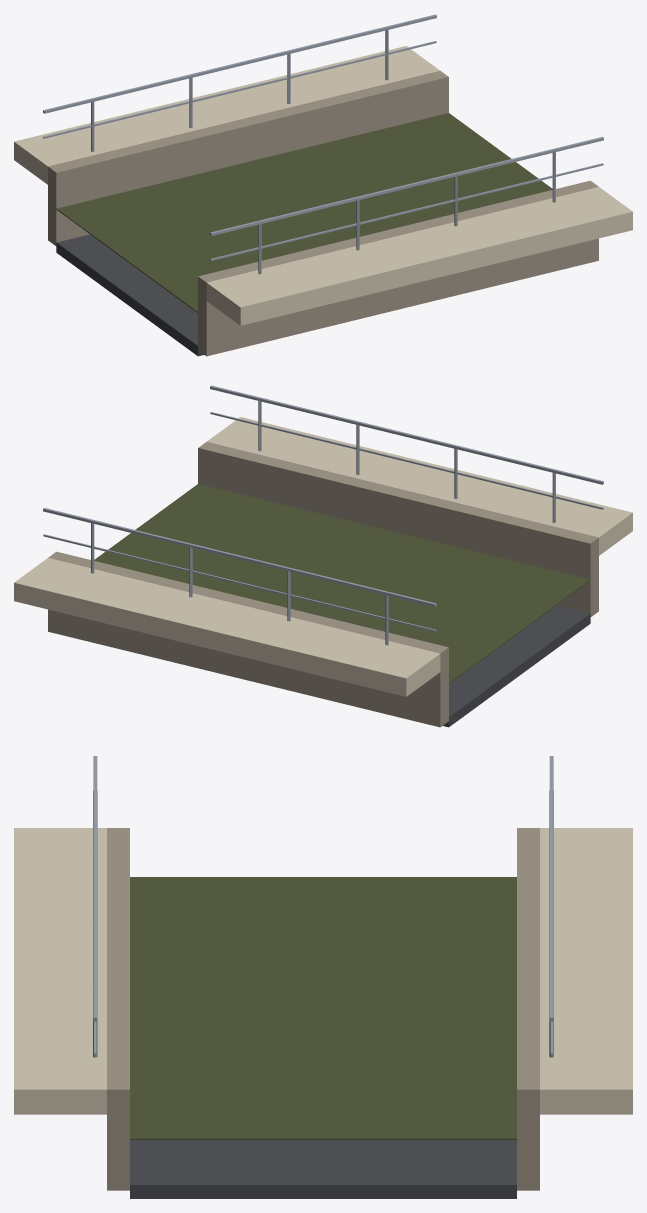
The model's file is Canal_Segment.fbx.
The picture shows the model from 3 angles, top to bottom: view 1: azimuth 30°, elevation 25°; view 2: azimuth 150°, elevation 25°; view 3: azimuth 270°, elevation 25°; orthographic projection. The views are drawn at different scales.
Visible parts, largest first — view 1: Canal_Segment, Canal_Water; view 2: Canal_Segment, Canal_Water; view 3: Canal_Water, Canal_Segment.
Boxes of the visible parts, x1,y1,x2,y2 form: Canal_Segment: [14, 14, 632, 356]; Canal_Water: [56, 113, 552, 312]; Canal_Segment: [14, 385, 632, 727]; Canal_Water: [94, 484, 590, 683]; Canal_Water: [130, 877, 516, 1139]; Canal_Segment: [14, 756, 632, 1198].
Size of the model in its own units: 8 by 2.58 by 8.
